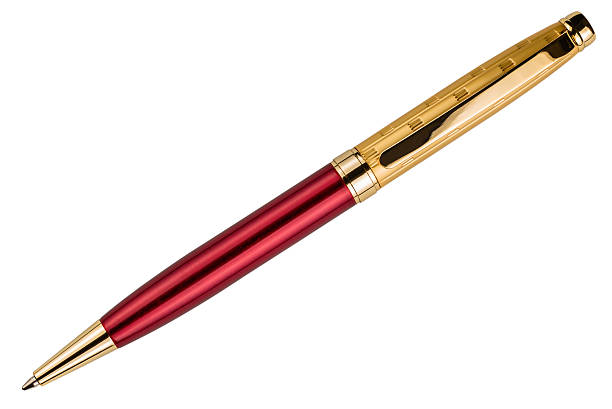pen: (15, 5, 603, 398)
